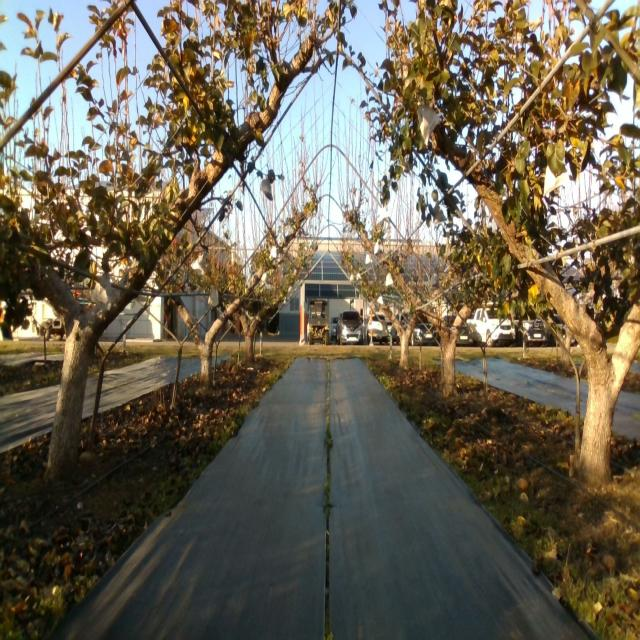pearbags: (416, 105, 441, 145), (543, 162, 570, 198), (92, 273, 112, 311), (191, 251, 207, 278), (259, 176, 273, 202), (433, 205, 447, 226)
